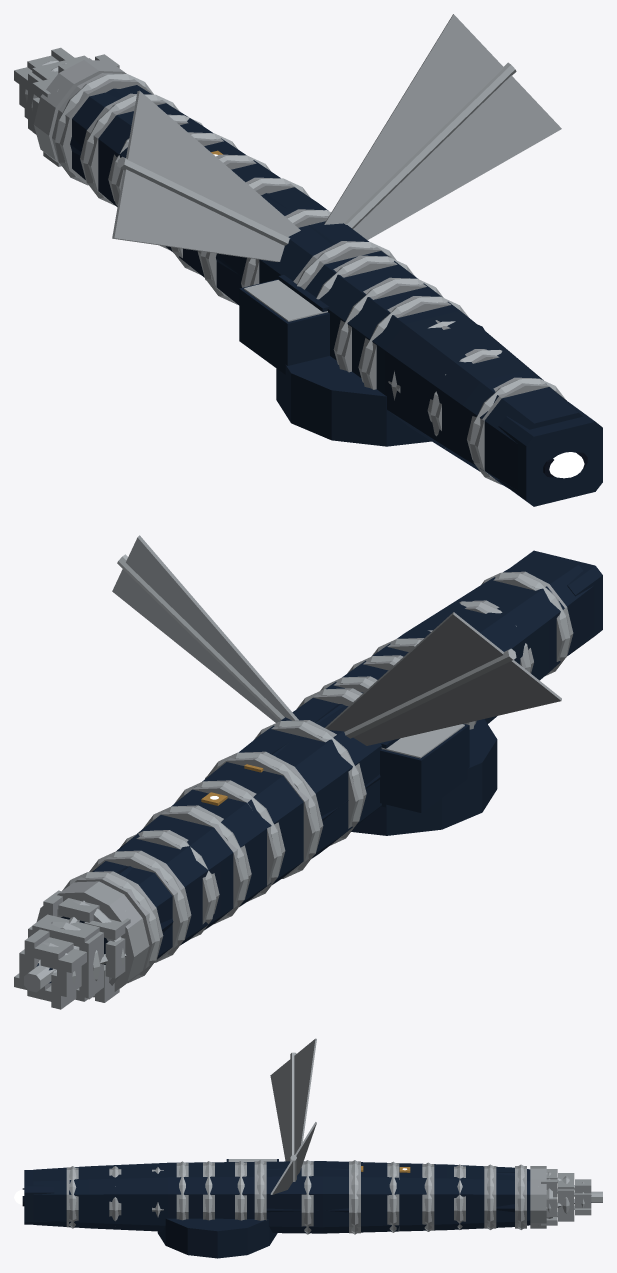
3 renders of one model, top to bottom at view 1: azimuth 30°, elevation 25°; view 2: azimuth 150°, elevation 25°; view 3: azimuth 270°, elevation 25°, orthographic. The views are drawn at different scales.
Parts seen in each view (by area): view 1: RIMWARD_HULL, RIMWARD_ENGINE_GLOW; view 2: RIMWARD_HULL; view 3: RIMWARD_HULL.
Boxes of the visible parts, x1,y1,x2,y2 form: RIMWARD_HULL: [14, 14, 602, 506]; RIMWARD_ENGINE_GLOW: [549, 452, 584, 478]; RIMWARD_HULL: [14, 535, 602, 1009]; RIMWARD_HULL: [22, 1038, 602, 1258].
Bounding box in the file's own units: 3.76 × 2.25 × 7.85.
